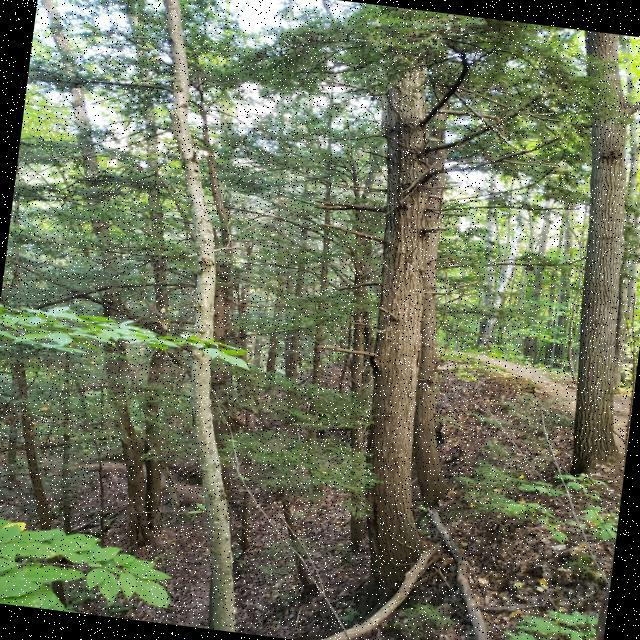fallen_object: (303, 466, 543, 640)
